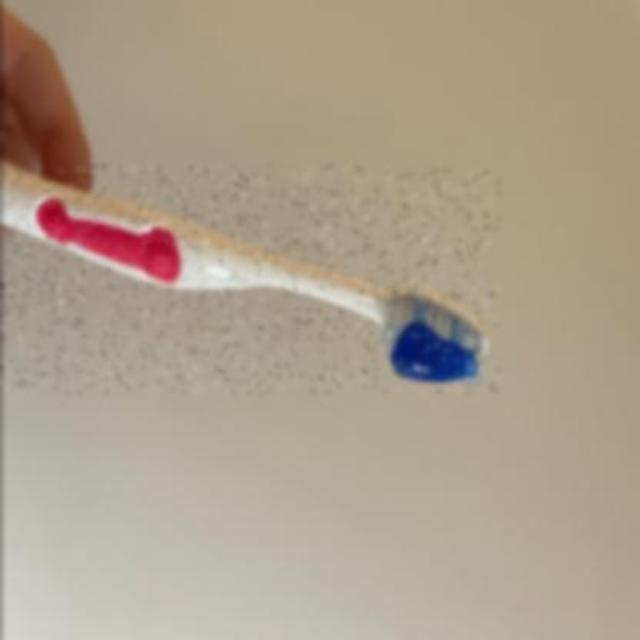toothbrush: (0, 164, 498, 393)
